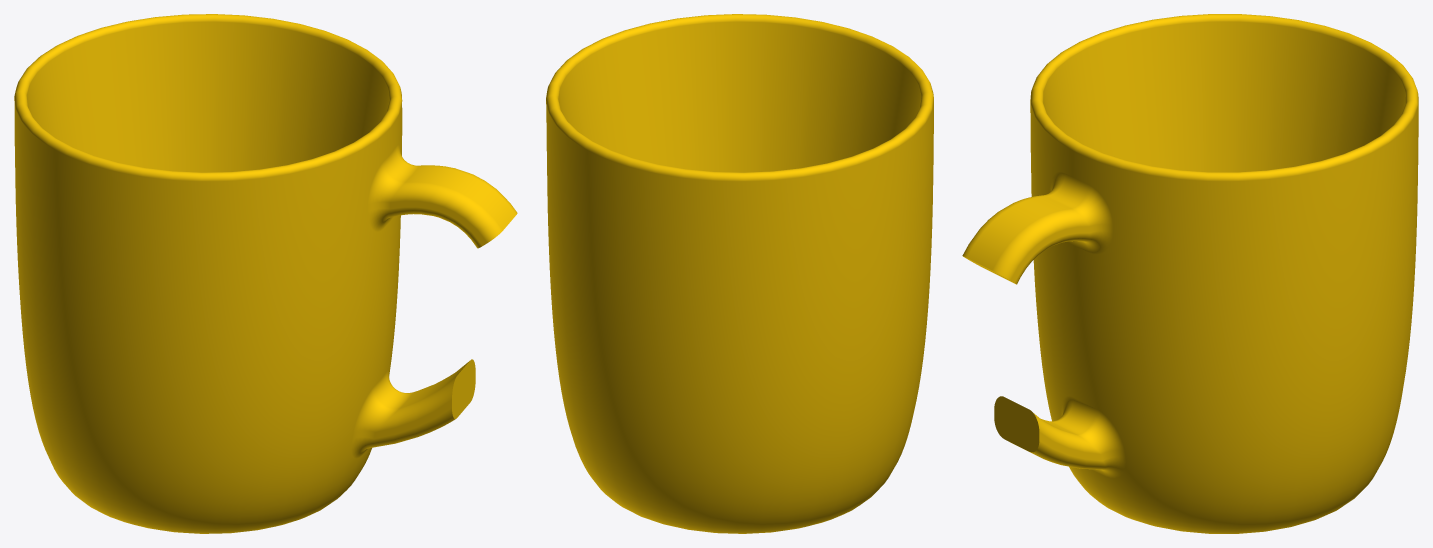
The model's file is cup1.glb.
3 renders of one model, left to right at view 1: azimuth 30°, elevation 25°; view 2: azimuth 150°, elevation 25°; view 3: azimuth 270°, elevation 25°, orthographic.
Parts seen in each view (by area): view 1: cup3.003; view 2: cup3.003; view 3: cup3.003.
Boxes of the visible parts, x1,y1,x2,y2 form: cup3.003: (14,14,517,533); cup3.003: (546,14,933,533); cup3.003: (962,14,1418,533).
Bounding box in the file's own units: 0.6528 × 0.6521 × 0.7051.
